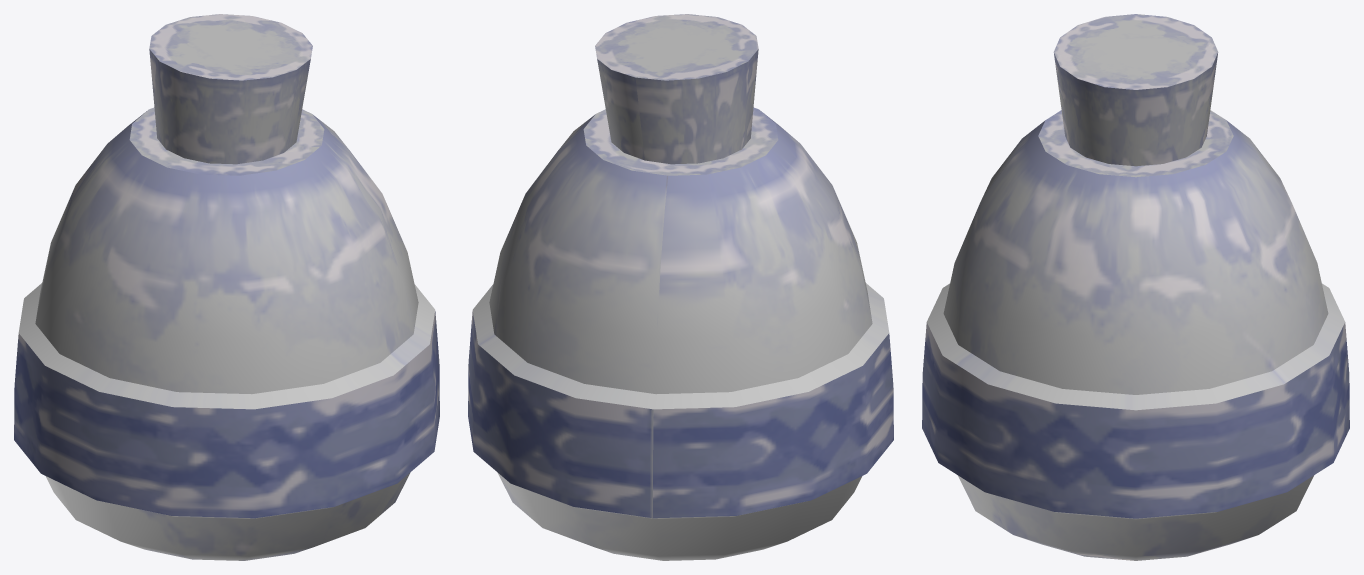
File: Potion_1.fbx
3 renders of one model, left to right at view 1: azimuth 30°, elevation 25°; view 2: azimuth 150°, elevation 25°; view 3: azimuth 270°, elevation 25°, orthographic.
Parts seen in each view (by area): view 1: Potion_1; view 2: Potion_1; view 3: Potion_1.
Boxes of the visible parts, left/top/right/bottom form: Potion_1: left=14, top=14, right=439, bottom=560; Potion_1: left=468, top=14, right=893, bottom=560; Potion_1: left=922, top=14, right=1349, bottom=560.
Bounding box in the file's own units: 11.39 × 14.04 × 11.39.
